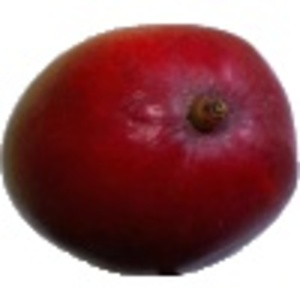manga: (1, 23, 300, 277)
